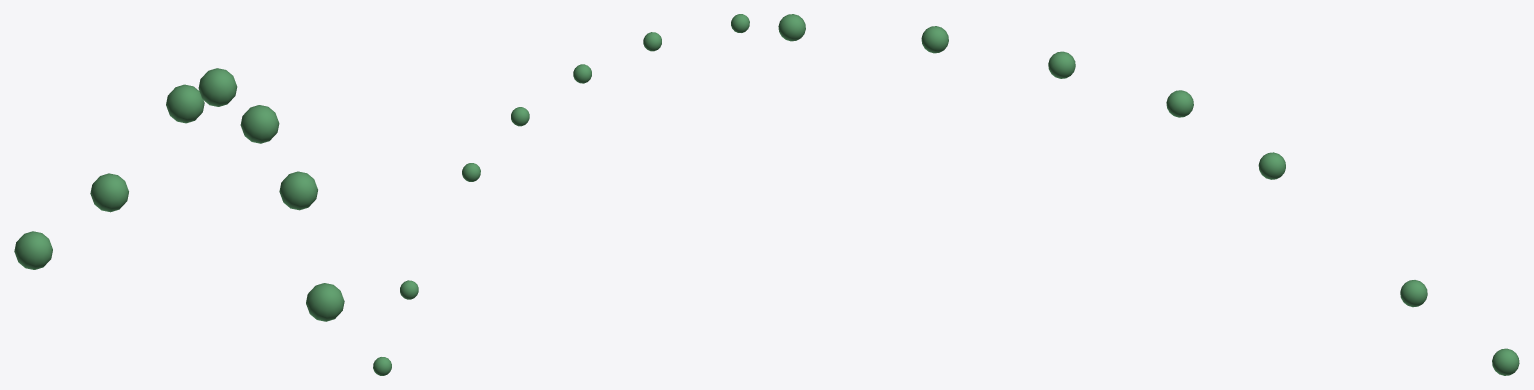
3 renders of one model, left to right at view 1: azimuth 30°, elevation 25°; view 2: azimuth 150°, elevation 25°; view 3: azimuth 270°, elevation 25°, orthographic. The views are drawn at different scales.
Visible parts, largest first — view 1: 左侧髂外中间淋巴结; view 2: 左侧髂外中间淋巴结; view 3: 左侧髂外中间淋巴结.
Part boxes in pixels (x1,y1,x2,y2): 左侧髂外中间淋巴结: [14, 68, 344, 321]; 左侧髂外中间淋巴结: [373, 14, 749, 375]; 左侧髂外中间淋巴结: [778, 14, 1519, 375].
Bounding box in the file's own units: 0.029 × 0.0459 × 0.1027.
